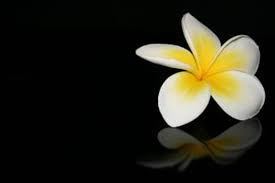frangipani: (136, 13, 267, 126)
